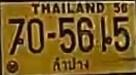0: (27, 18, 43, 52)
1: (100, 16, 108, 51), (101, 16, 108, 51), (101, 16, 107, 50)
5: (58, 16, 75, 52), (112, 16, 128, 50)
6: (76, 16, 92, 51)
7: (8, 18, 24, 54)
LPG: (50, 55, 92, 72)
